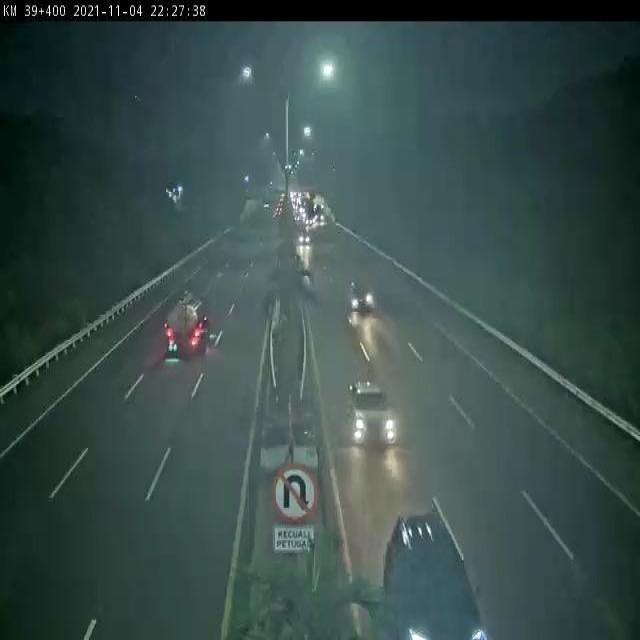ARABA: (383, 510, 485, 640), (346, 380, 396, 448), (348, 283, 373, 312)
TIR: (167, 297, 209, 356)
